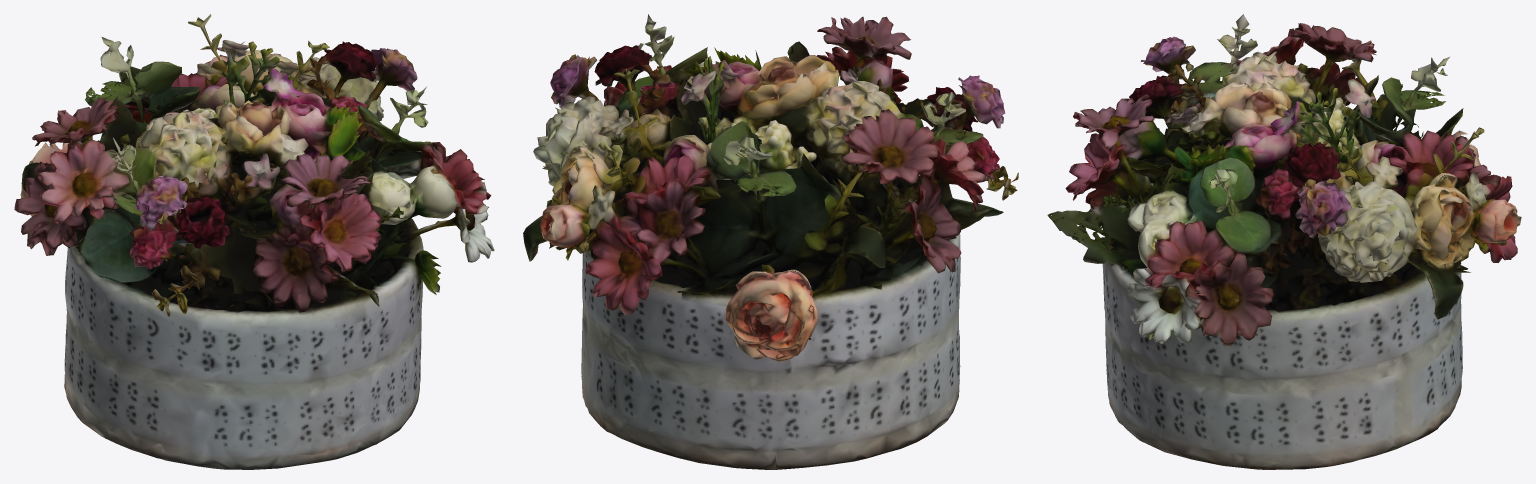
The model's file is bouquet_scan_ranjbari.glb.
3 renders of one model, left to right at view 1: azimuth 30°, elevation 25°; view 2: azimuth 150°, elevation 25°; view 3: azimuth 270°, elevation 25°, orthographic. The views are drawn at different scales.
Visible parts, largest first — view 1: Model_material0_0; view 2: Model_material0_0; view 3: Model_material0_0.
Boxes of the visible parts, bbox=[...] form: Model_material0_0: bbox=[14, 14, 494, 469]; Model_material0_0: bbox=[523, 14, 1018, 469]; Model_material0_0: bbox=[1047, 14, 1521, 469].
Size of the model in its own units: 9.79 by 7.59 by 9.92.
1 material, 1 textured.
